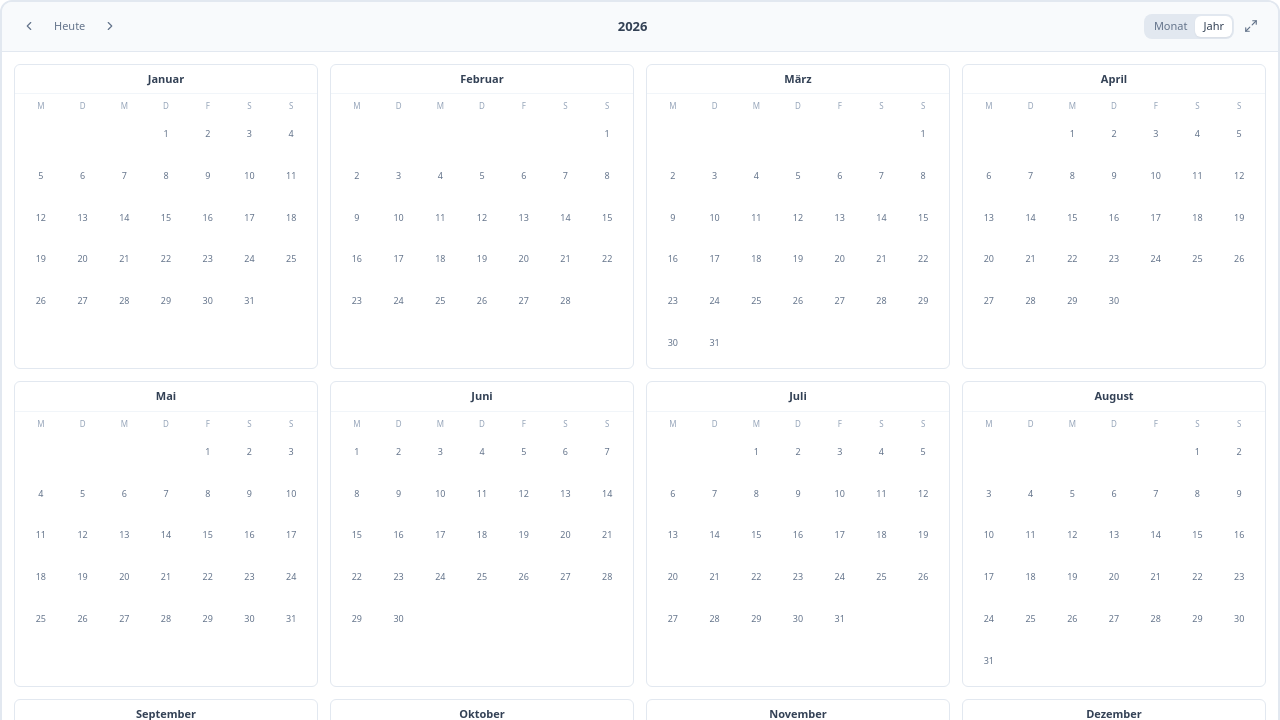
LeaveCalendar — year view › clicking a month name jumps to month view for that month
Click the button with aria-label "August 2026 öffnen".
click(1114, 397)  # box left=963, top=382, right=1265, bottom=412
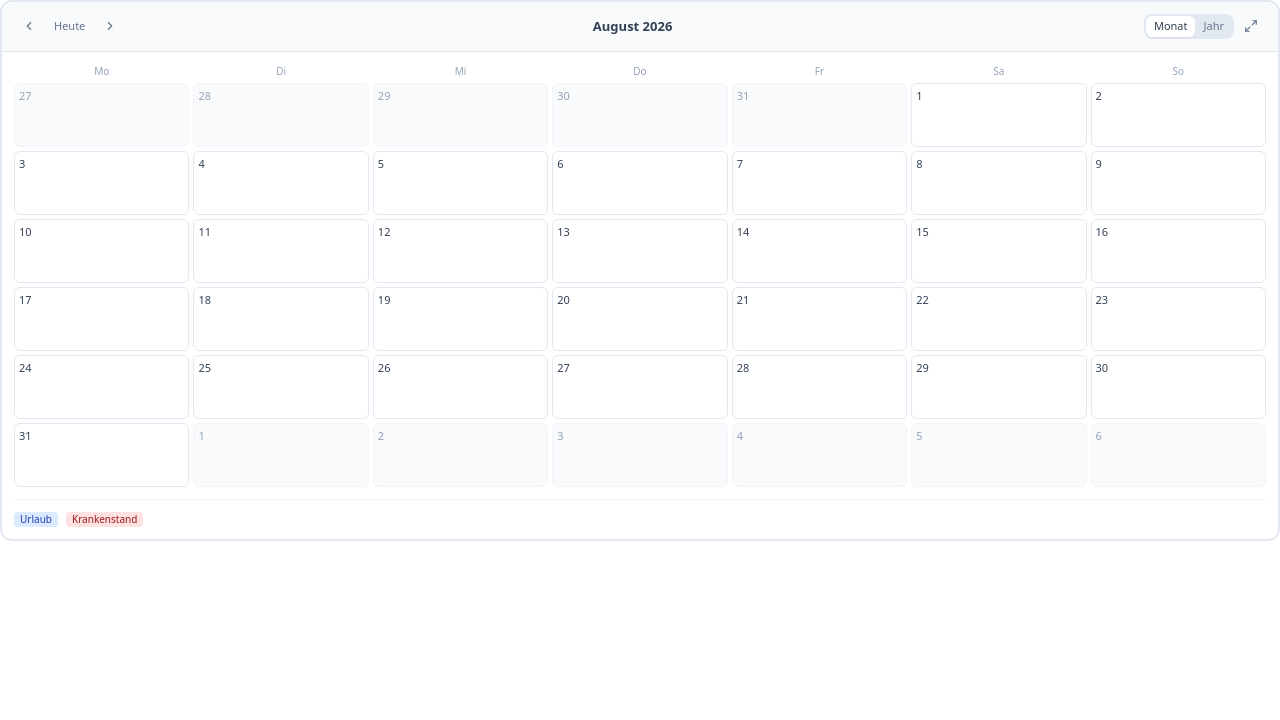
expect the element with test id "calendar-grid" is shown: met
expect the text "August 2026" is shown: met, box left=593, top=16, right=672, bottom=36
